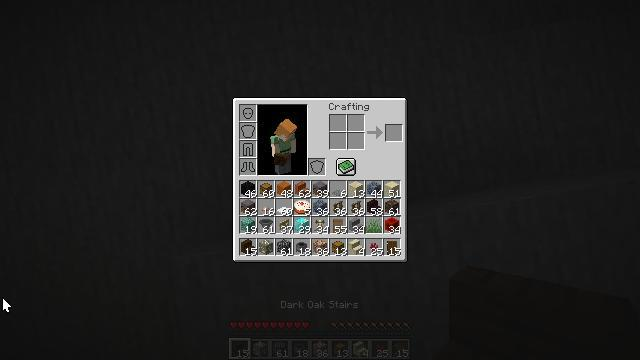cursor: (297, 2, 313, 12)
